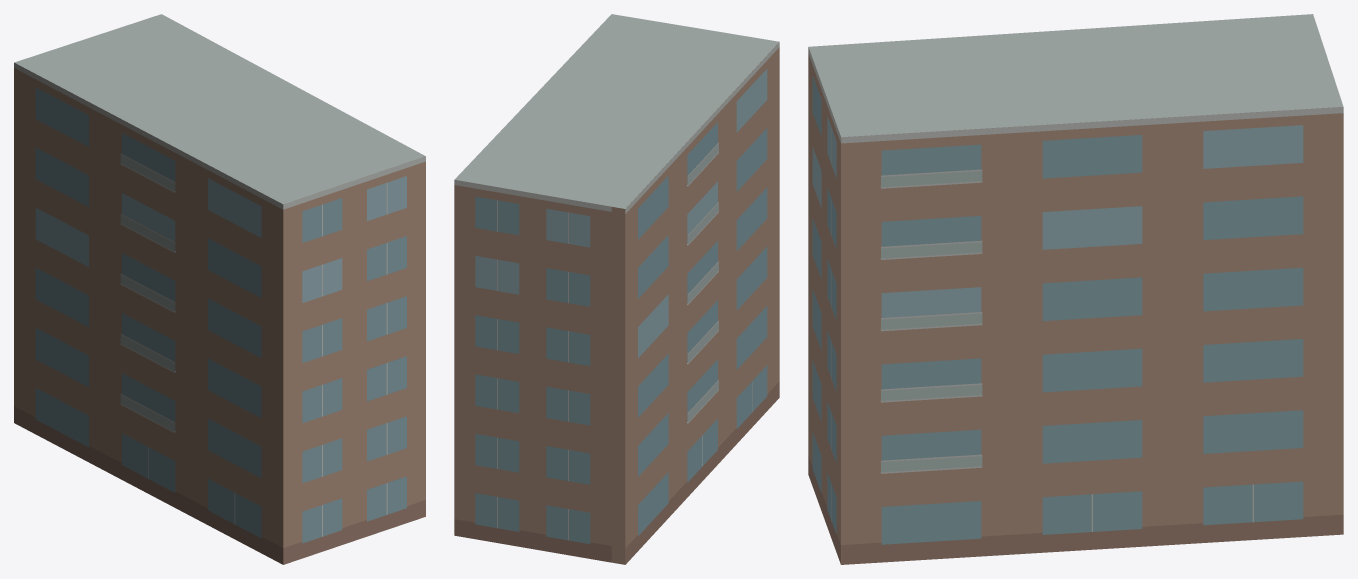
File: survey-upis-32723264.glb
3 renders of one model, left to right at view 1: azimuth 30°, elevation 25°; view 2: azimuth 150°, elevation 25°; view 3: azimuth 270°, elevation 25°, orthographic. The views are drawn at different scales.
Parts seen in each view (by area): view 1: survey-upis-32723264.tmp; view 2: survey-upis-32723264.tmp; view 3: survey-upis-32723264.tmp.
Boxes of the visible parts, bbox=[...] form: survey-upis-32723264.tmp: bbox=[14, 14, 425, 564]; survey-upis-32723264.tmp: bbox=[454, 14, 779, 564]; survey-upis-32723264.tmp: bbox=[808, 14, 1343, 564].
Size of the model in its own units: 10.27 by 16.6 by 18.84.
